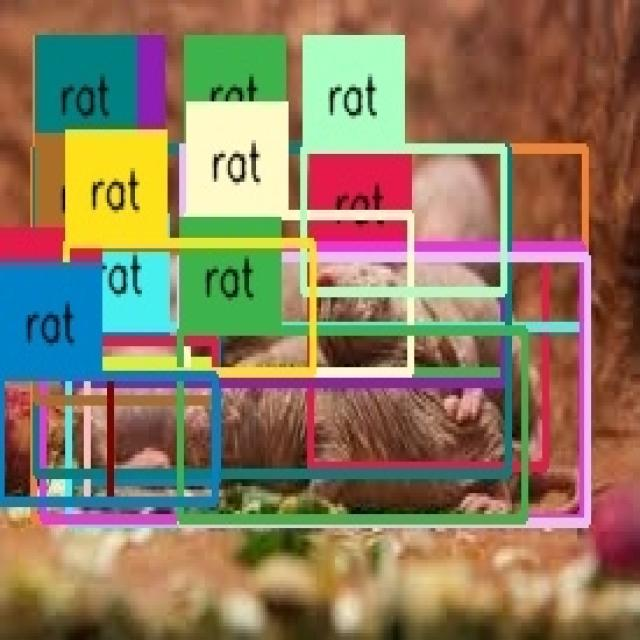rat: (34, 150, 585, 521), (37, 149, 510, 474), (43, 248, 583, 521), (180, 259, 588, 521), (64, 149, 504, 383), (69, 329, 585, 521), (180, 329, 588, 521), (186, 148, 503, 372), (182, 328, 524, 518), (310, 257, 546, 467), (187, 215, 411, 373), (0, 339, 216, 500), (66, 245, 313, 371), (304, 149, 504, 292), (35, 247, 214, 401), (0, 374, 214, 500), (67, 341, 216, 481), (66, 248, 216, 360), (0, 376, 109, 502), (0, 376, 86, 502)
